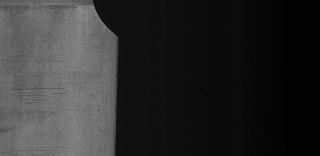welding line: (0, 0, 106, 14)
